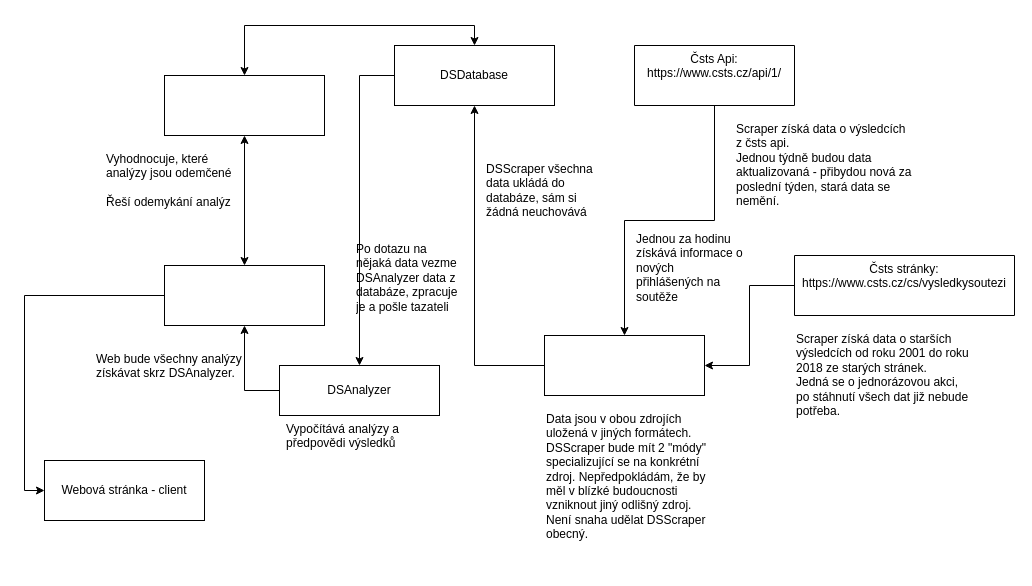
This 1032x586 diagram has some shape labels left out. The shapes that lost their labels are listed below. From the top down, each one's centre as x and y in pixels, then its label:
point (244, 105): DSBusinessLogic
point (244, 295): Rest Server
point (624, 365): DSScraper
